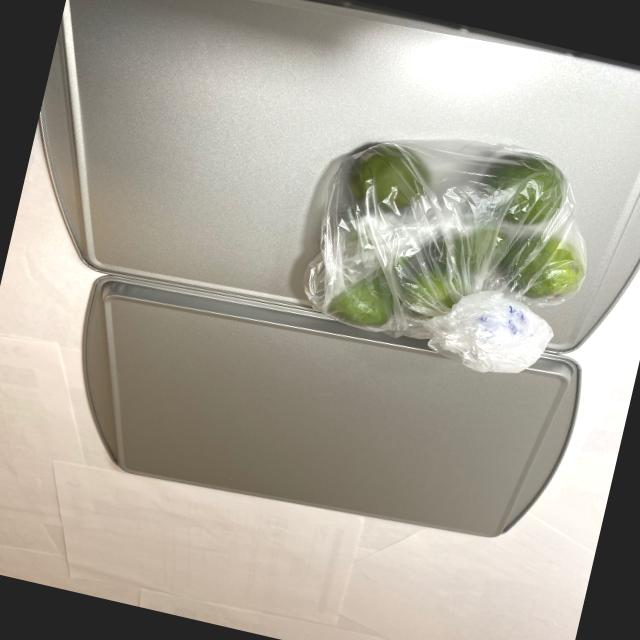lemon: (286, 112, 602, 376)
